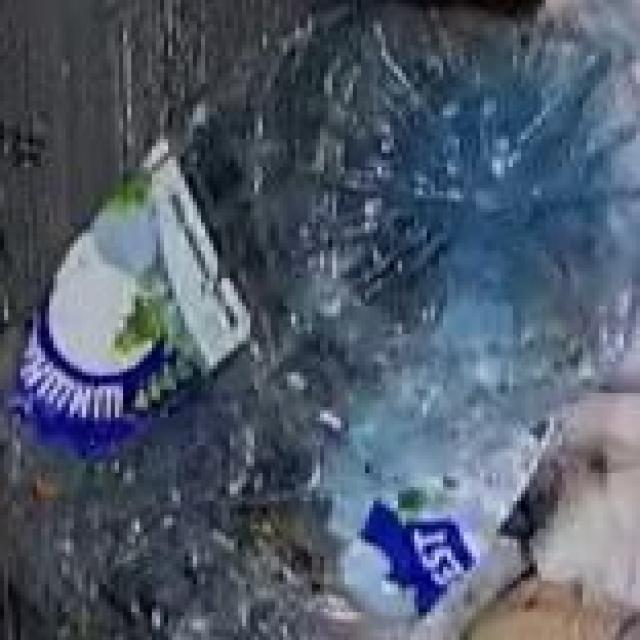litter: (33, 3, 615, 640)
